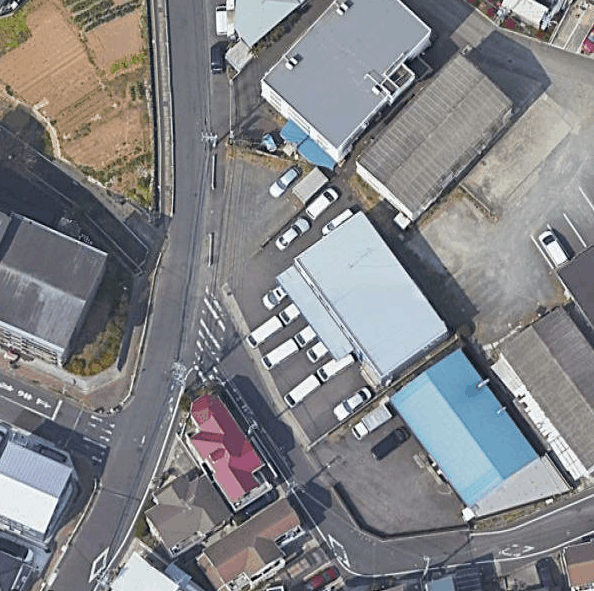flatroof: (267, 200, 459, 402), (264, 0, 430, 145)
